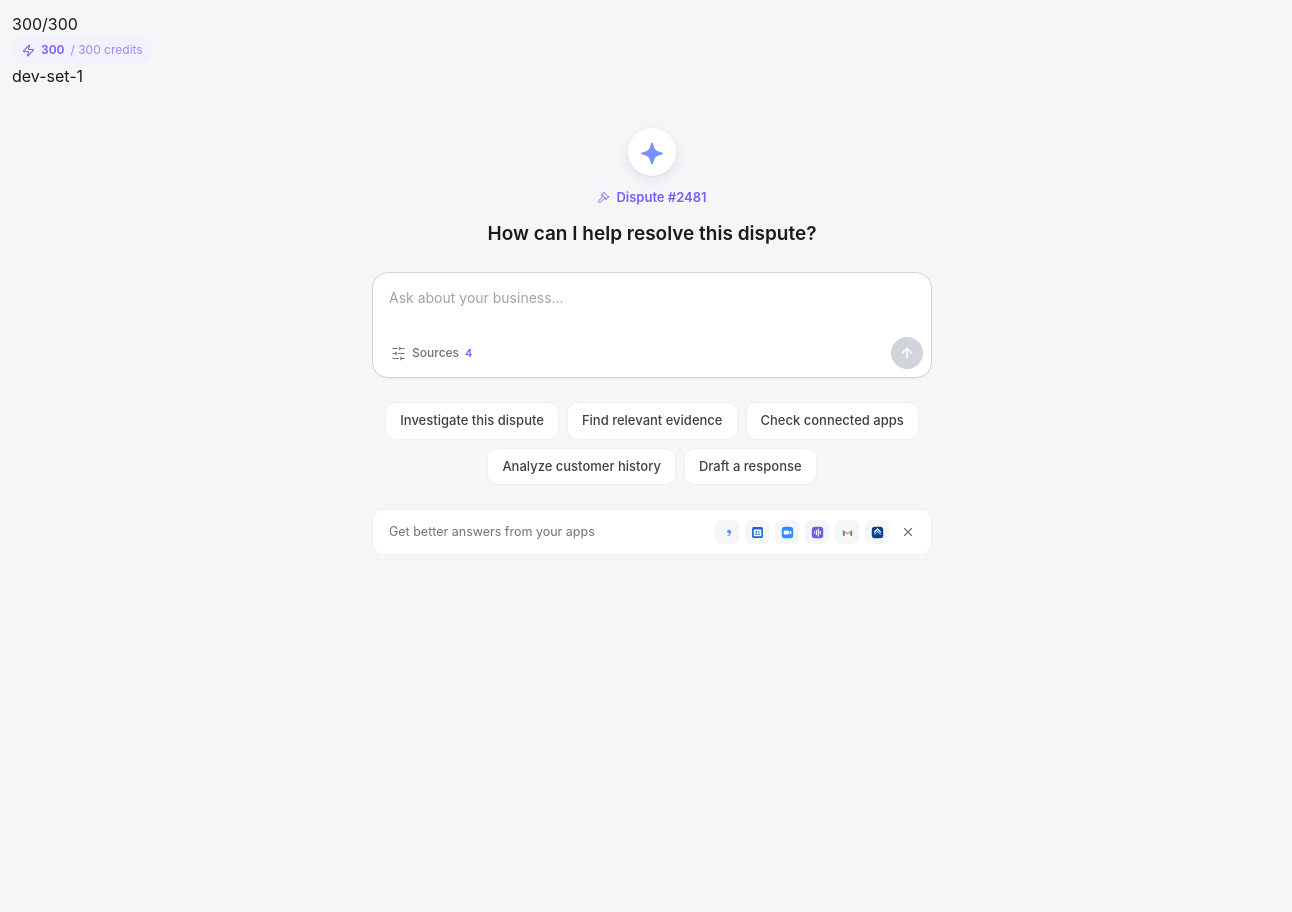
Test: chat credit system › G. investigation credit usage — the demo-configurable tiered model (src/lib/mockData.ts's CREDIT_COSTS) › a full structured investigation report costs the advanced tier (5 credits), regardless of source count
Click the button "Investigate this dispute" at (472, 421), box [385,402,559,440]
Wait 3000 ms
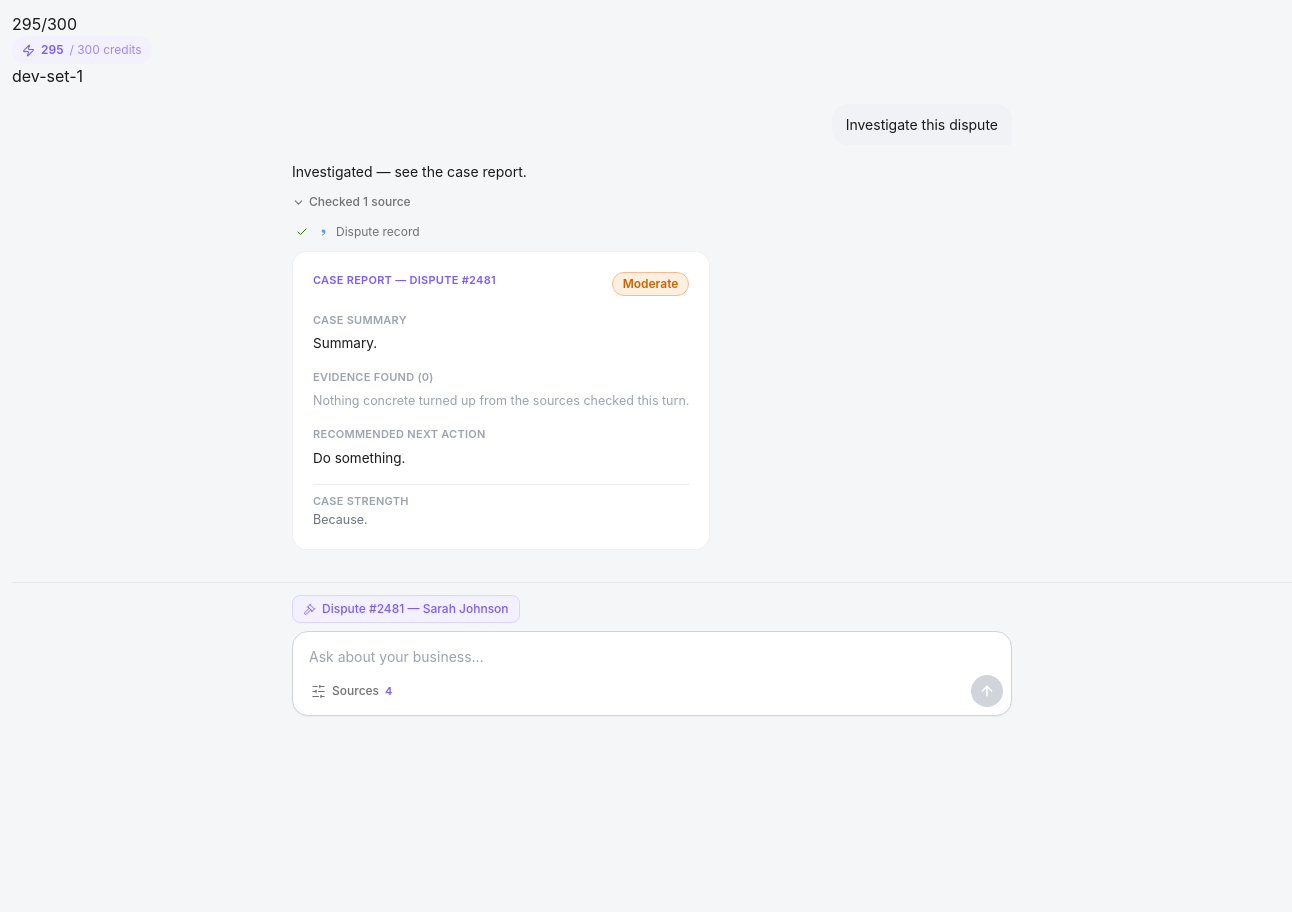
expect the text "Case report — Dispute #2481" is shown: met, box [313,272,496,288]
expect the text with test id "credits-readout" reads "295/300": met, box [12,14,77,34]
